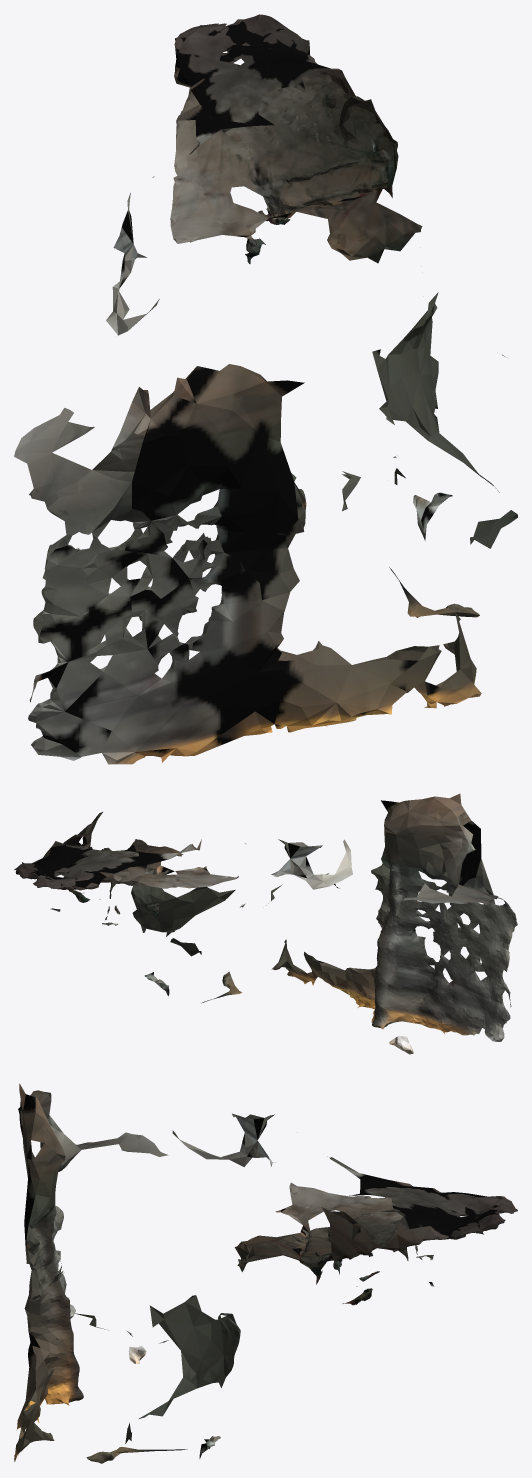
Rendered from texturedMesh.obj.
The picture shows the model from 3 angles, top to bottom: view 1: azimuth 30°, elevation 25°; view 2: azimuth 150°, elevation 25°; view 3: azimuth 270°, elevation 25°; orthographic projection. The views are drawn at different scales.
Visible parts, largest first — view 1: TexturedMesh; view 2: TexturedMesh; view 3: TexturedMesh.
Boxes of the visible parts, x1,y1,x2,y2 form: TexturedMesh: (14,14,517,764); TexturedMesh: (14,793,517,1054); TexturedMesh: (14,1083,517,1463).
Size of the model in its own units: 7.48 by 5.41 by 8.17.
Materials: 1 (1 with a texture image).
